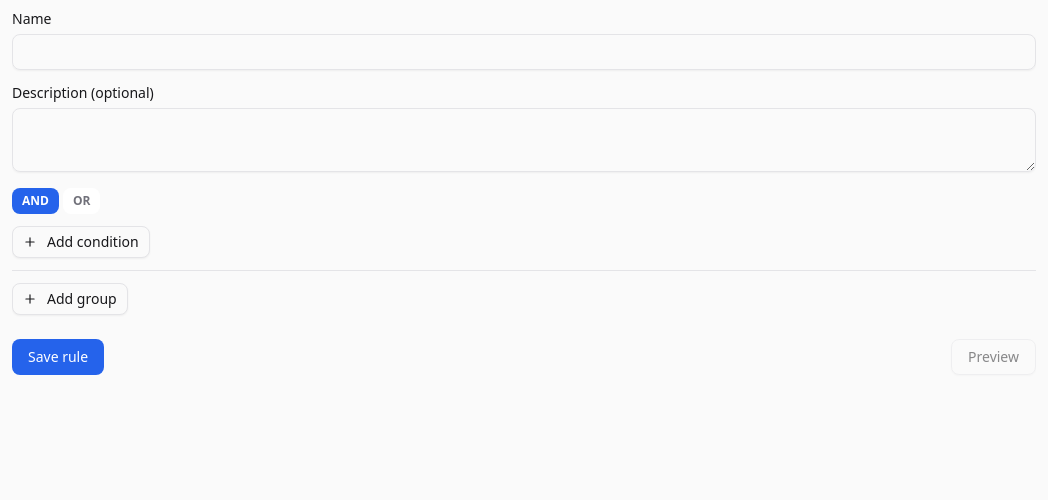
it: RuleEditor -- registry-driven ops › shows only the selected NUMBER field's own ops, not a hardcoded set
Step 1. Click the button with test id "rule-add-condition" → [81, 242], box [12,226,150,258]
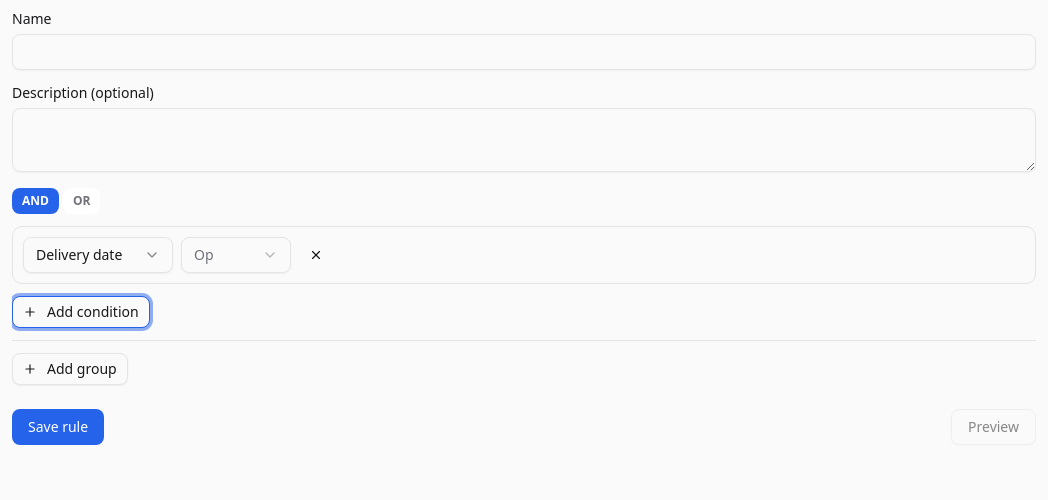
Step 2. Click the dropdown with test id "rule-condition-0-field" → [98, 255], box [23,237,173,273]
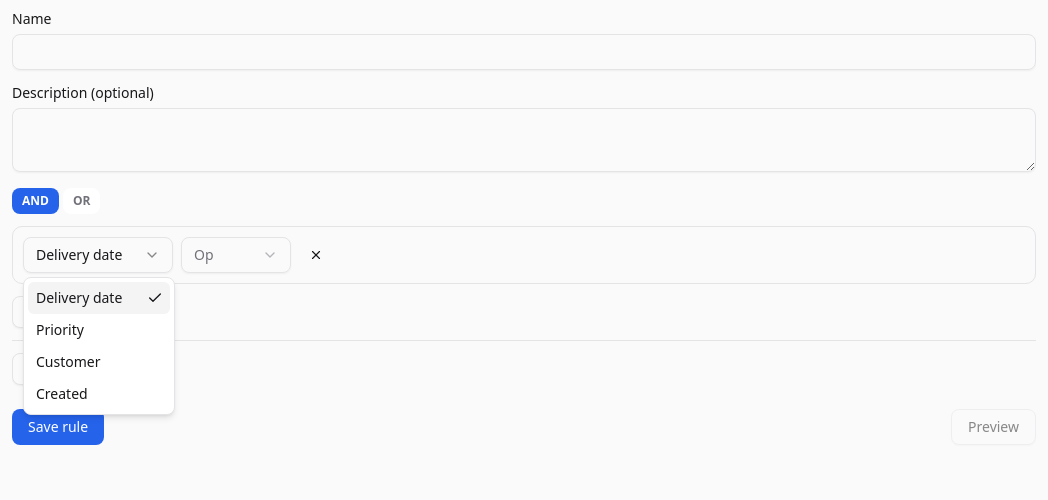
Step 3. Click the option "Priority" → [60, 330], box [36,320,84,339]
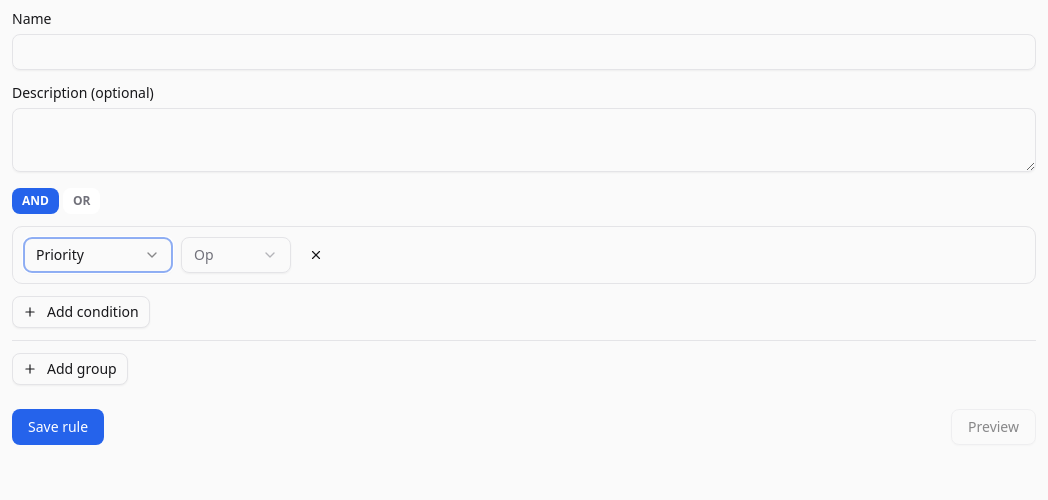
Step 4. Click the dropdown with test id "rule-condition-0-op" → [236, 255], box [181,237,291,273]
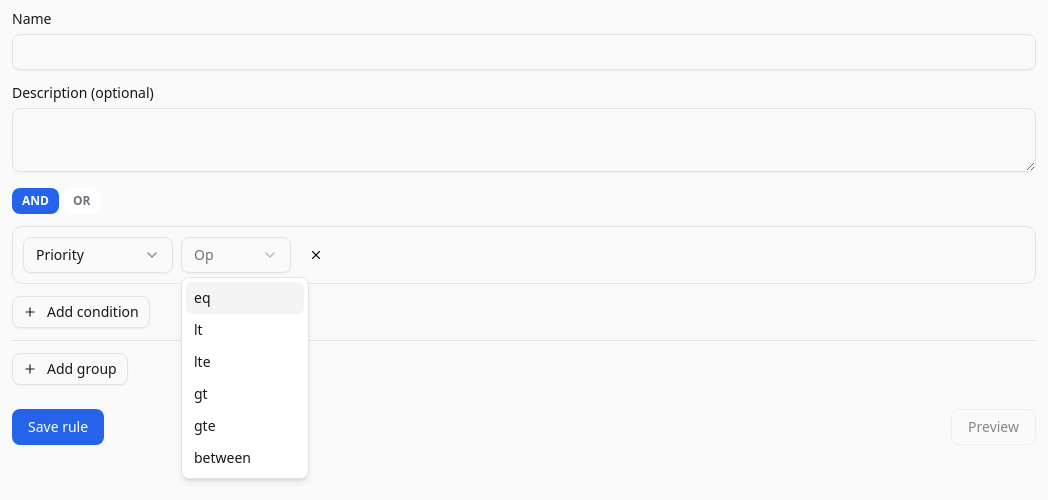
Result: the text "between" is shown at [194,448,251,468]
Result: the text "gte" is shown at [194,416,216,436]
